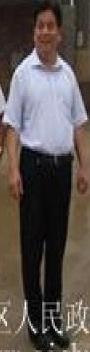boots: (28, 324, 50, 351), (0, 300, 12, 320)
